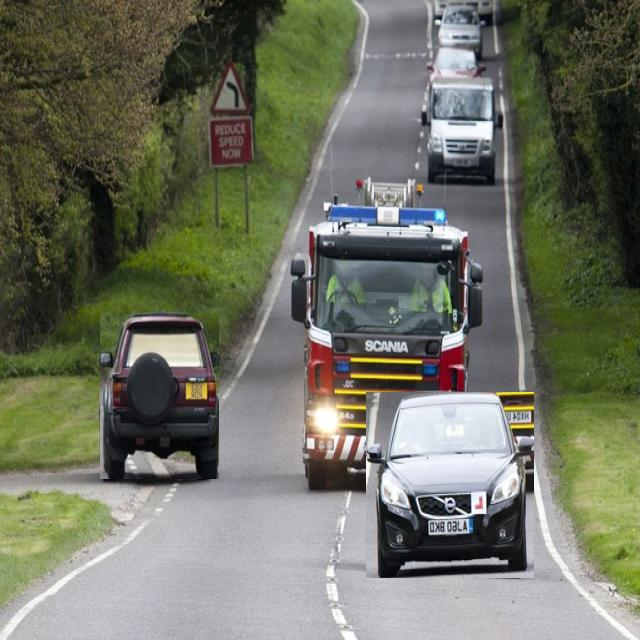car: (366, 392, 534, 578), (100, 314, 219, 479), (420, 77, 501, 181)
emergency: (290, 176, 484, 488)
